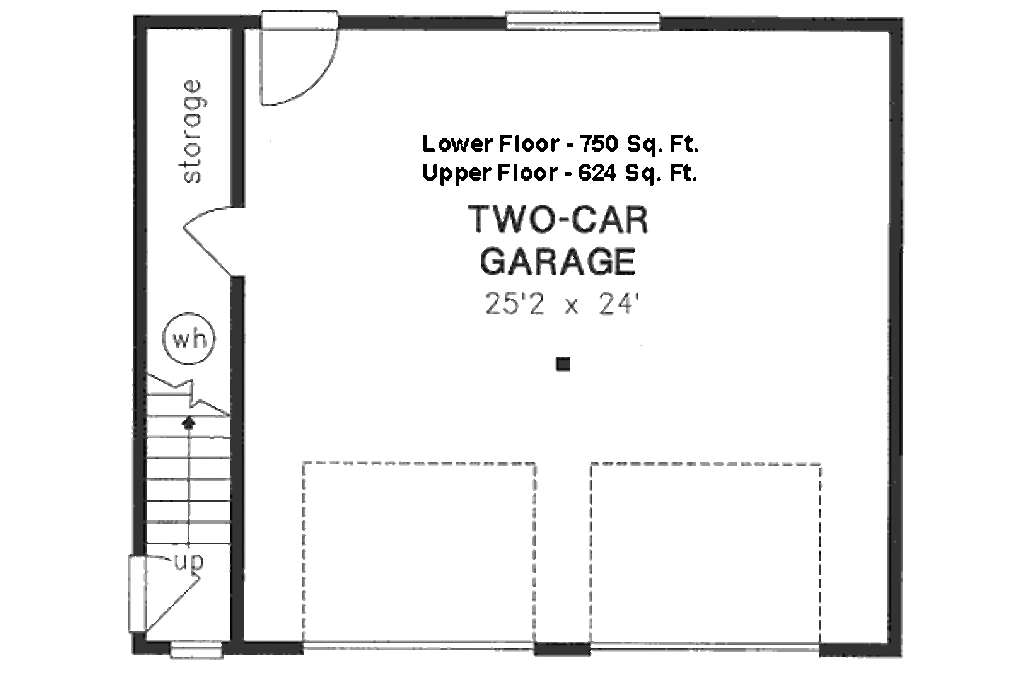door: (261, 11, 339, 108), (124, 557, 206, 637), (179, 205, 241, 286)
stairs: (142, 377, 234, 549)
window: (501, 11, 665, 34), (169, 638, 226, 660)
